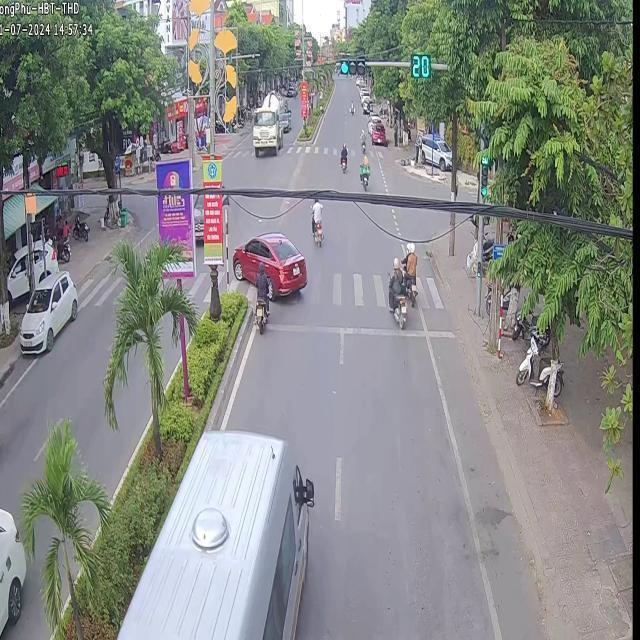car: (117, 429, 312, 637), (230, 231, 306, 298), (18, 269, 77, 351), (0, 508, 24, 630), (250, 91, 280, 156)
green_light: (409, 54, 432, 73), (338, 58, 365, 74), (479, 149, 487, 198)
motobike: (387, 256, 404, 327), (253, 260, 268, 331), (400, 240, 416, 296), (309, 196, 322, 245), (358, 151, 368, 189), (416, 296, 427, 308)
stop_line: (267, 322, 450, 336)
